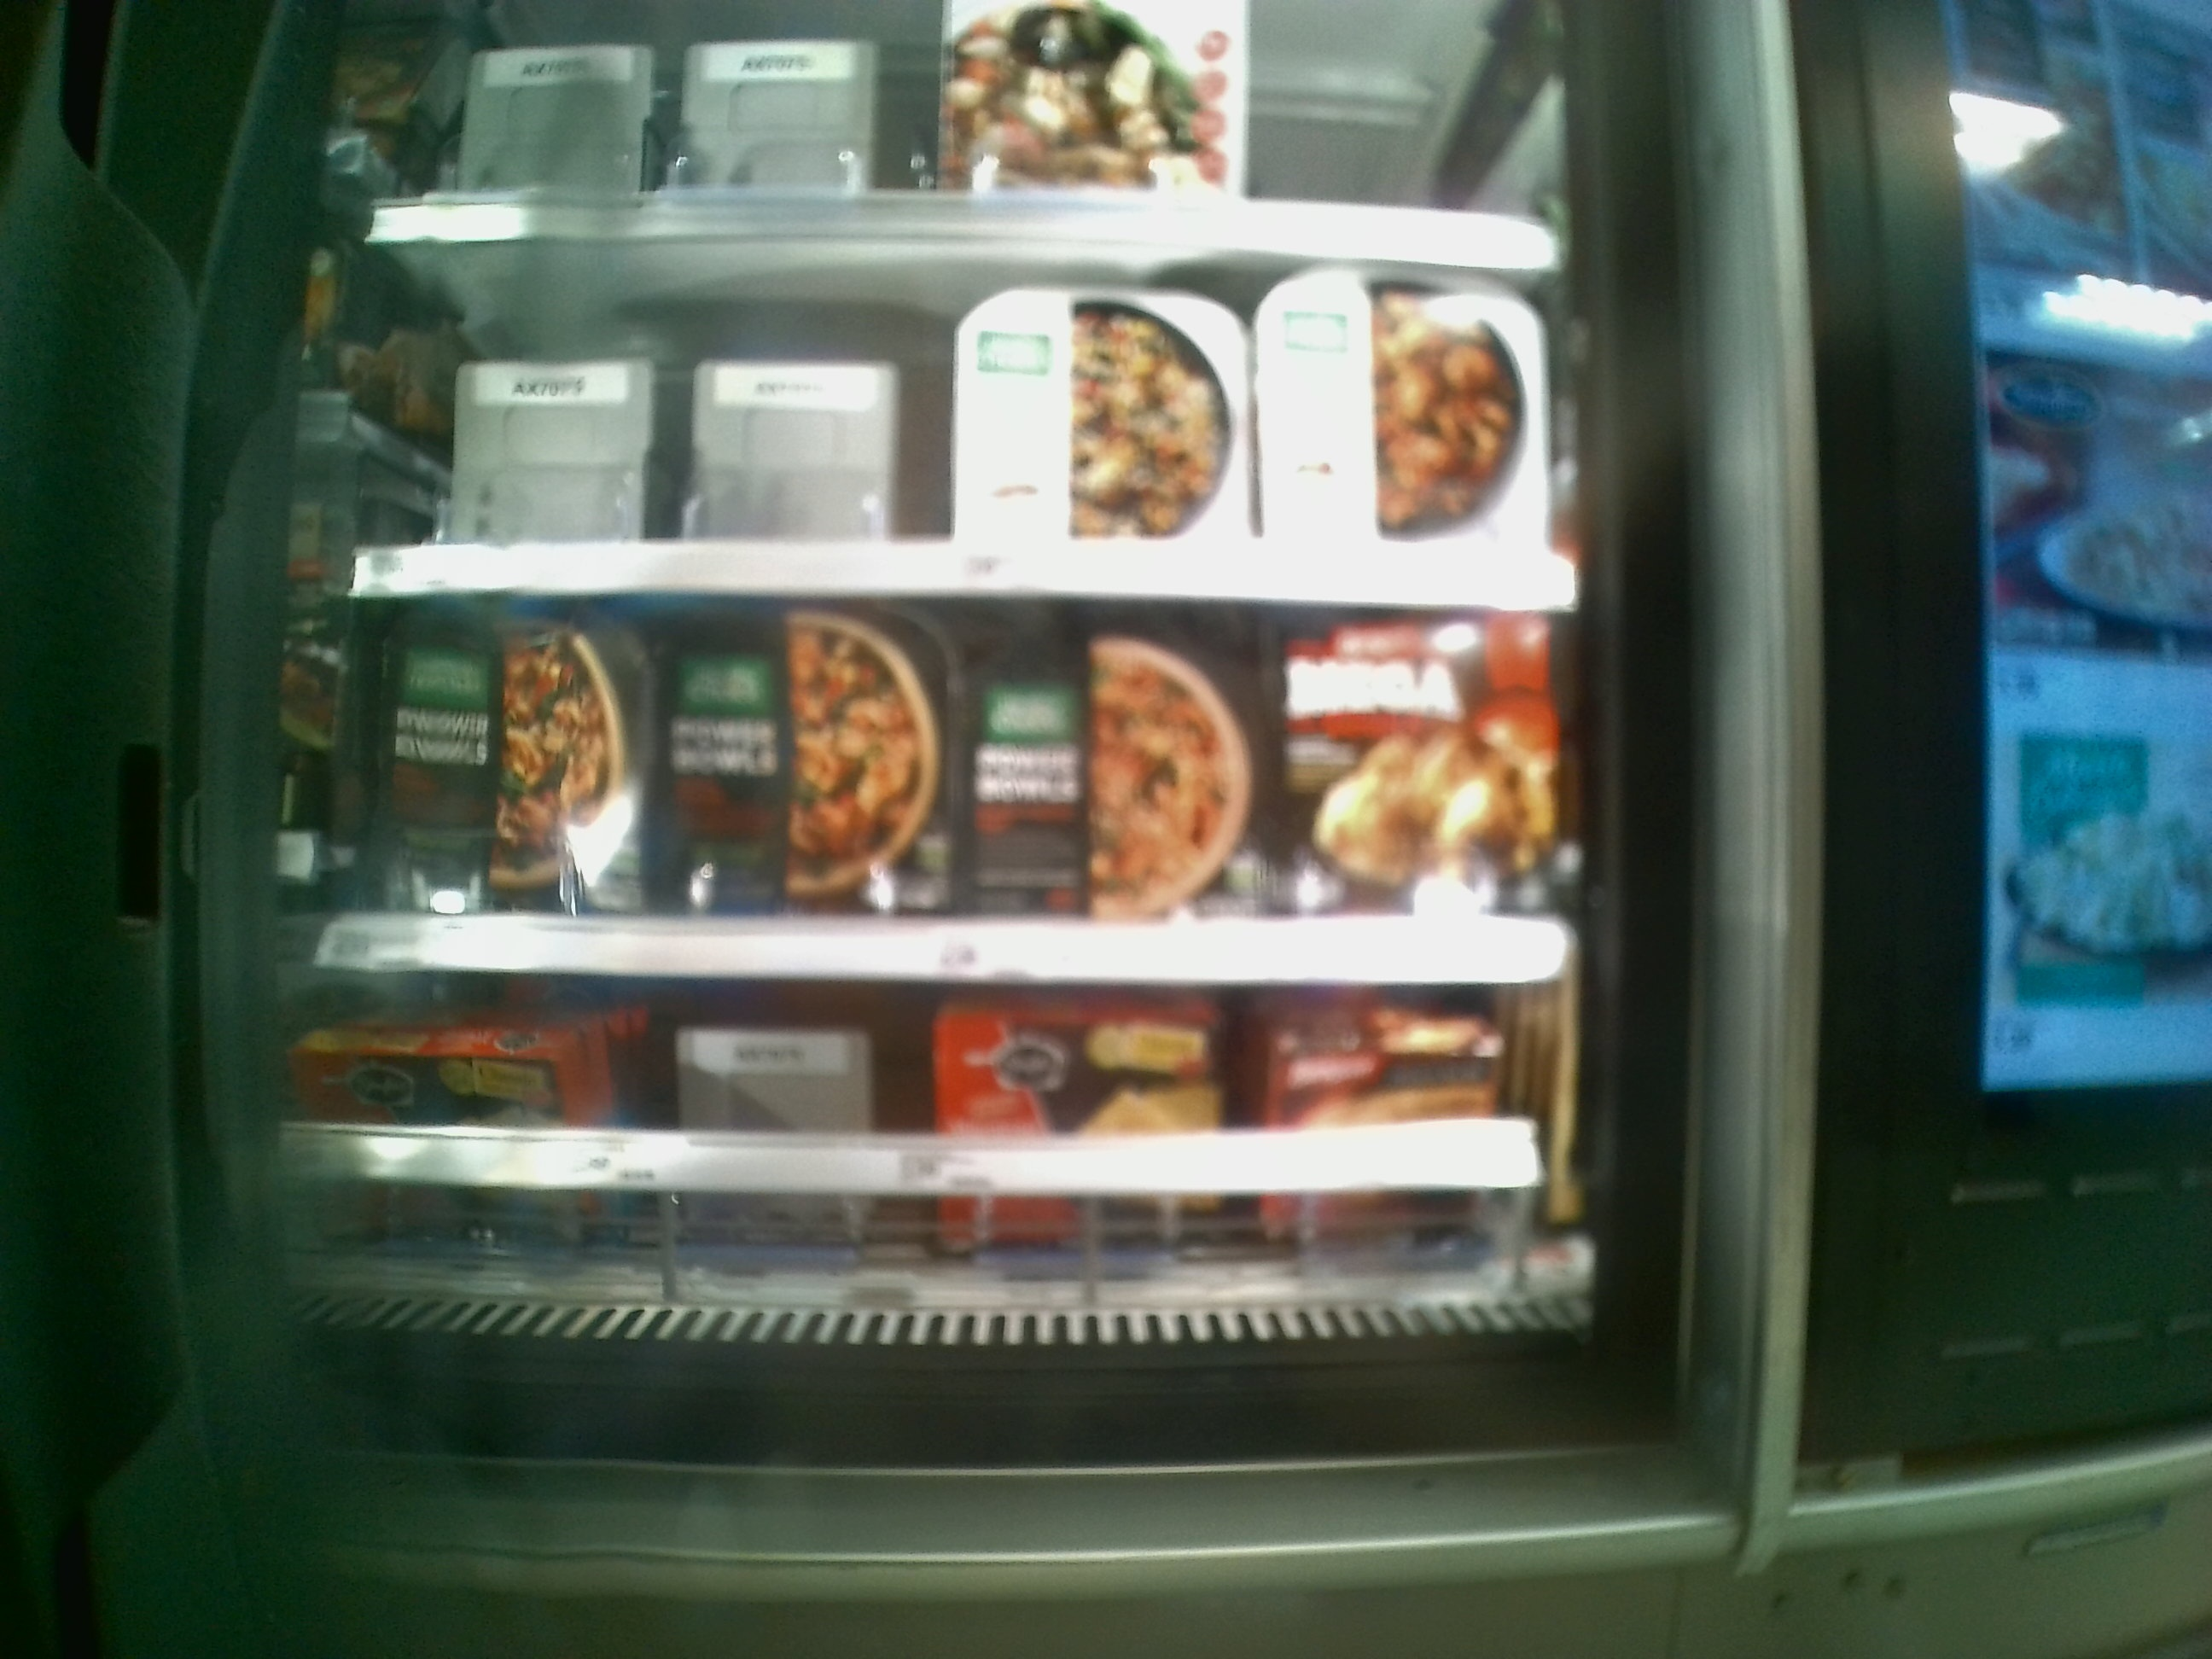Shelf: (289, 972, 1615, 1359), (326, 598, 1581, 985), (347, 234, 1575, 606)
